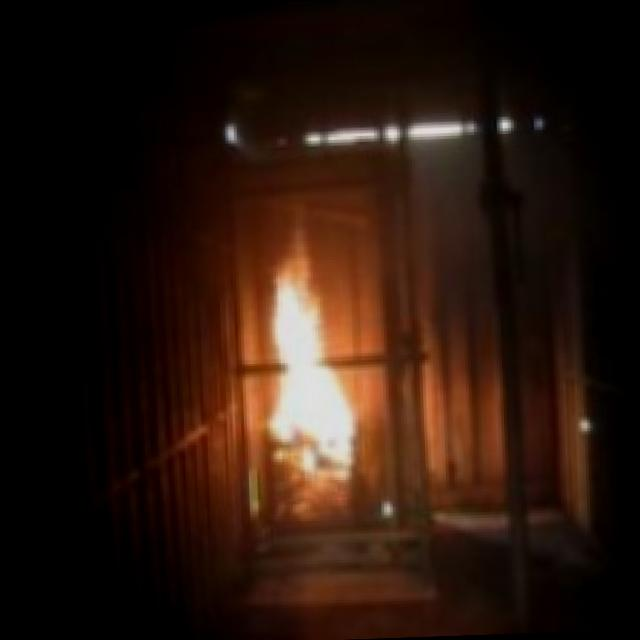fire: (251, 234, 372, 486)
